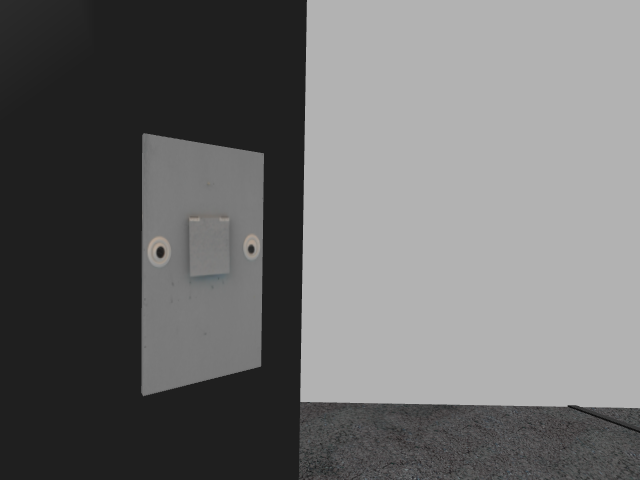facade: (145, 213, 260, 282)
